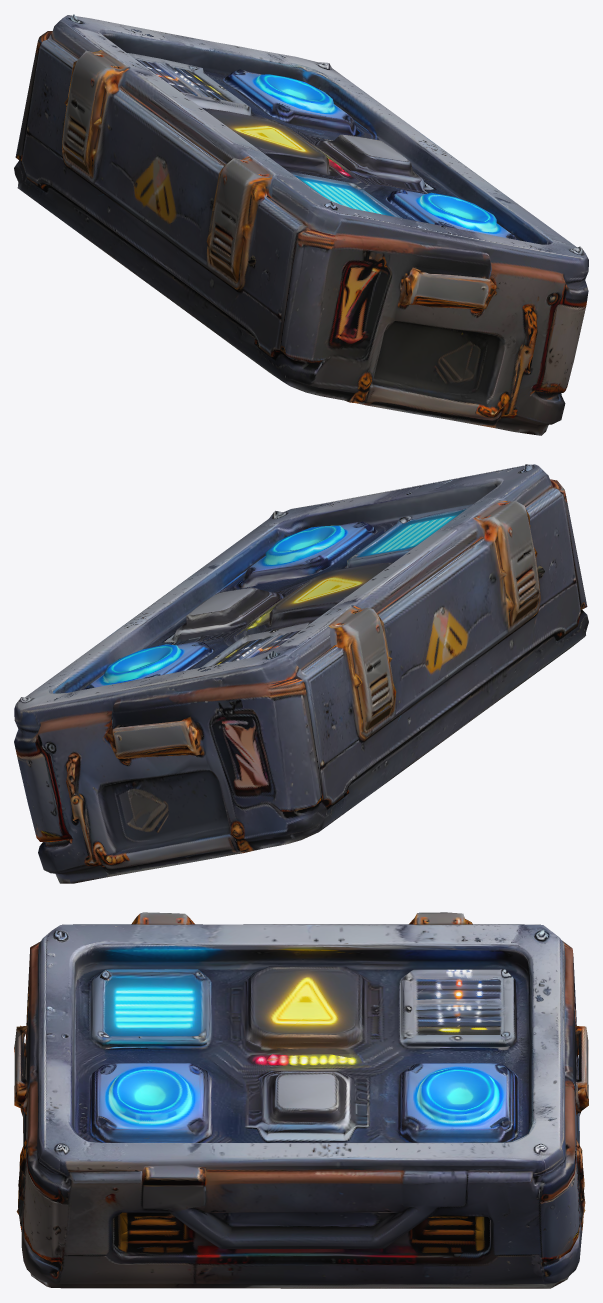
Rendered from consola.obj.
3 renders of one model, top to bottom at view 1: azimuth 30°, elevation 25°; view 2: azimuth 150°, elevation 25°; view 3: azimuth 270°, elevation 25°, orthographic. The views are drawn at different scales.
Parts seen in each view (by area): view 1: tripo_node_0506afe8-bb36-43d9-8c81-fca417e7c99b; view 2: tripo_node_0506afe8-bb36-43d9-8c81-fca417e7c99b; view 3: tripo_node_0506afe8-bb36-43d9-8c81-fca417e7c99b.
Boxes of the visible parts, bbox=[...] form: tripo_node_0506afe8-bb36-43d9-8c81-fca417e7c99b: bbox=[14, 14, 588, 435]; tripo_node_0506afe8-bb36-43d9-8c81-fca417e7c99b: bbox=[14, 464, 588, 883]; tripo_node_0506afe8-bb36-43d9-8c81-fca417e7c99b: bbox=[14, 912, 588, 1288].
Size of the model in its own units: 0.6175 by 0.5069 by 1.
Materials: 1 (1 with a texture image).
